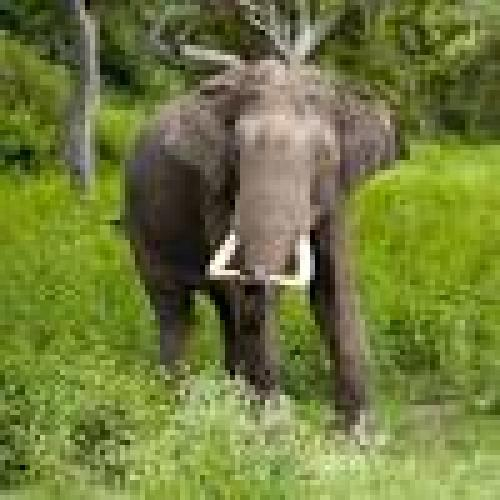asian_elephant-endangered: (122, 58, 394, 430)
